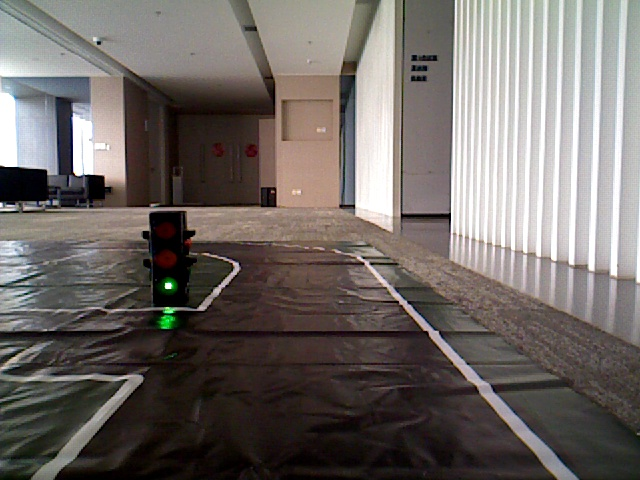green: (150, 217, 187, 297)
